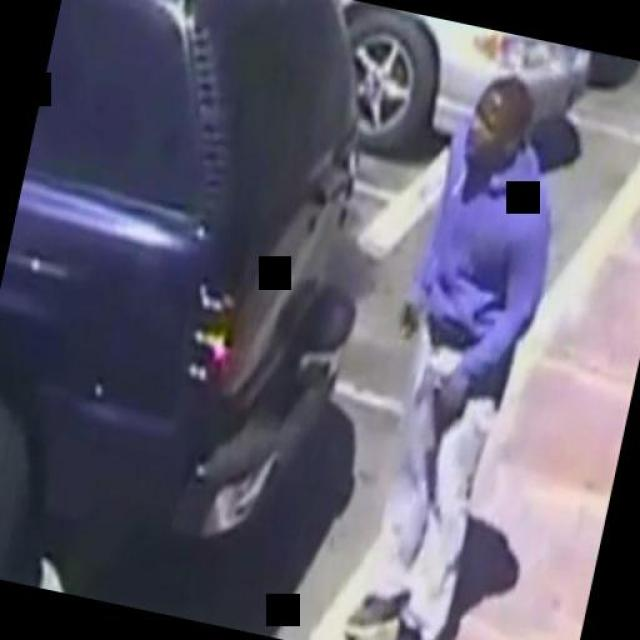gun: (391, 290, 424, 348)
